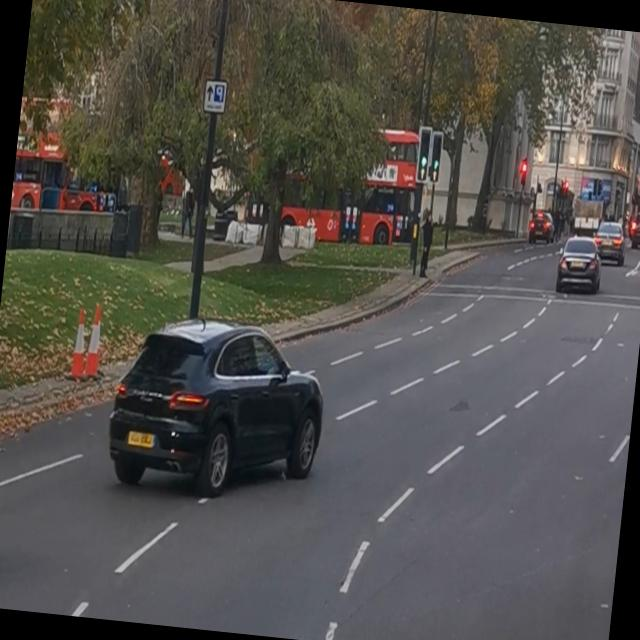Vehicle: (100, 296, 332, 505), (551, 235, 601, 300), (590, 216, 626, 266), (525, 206, 558, 248)
